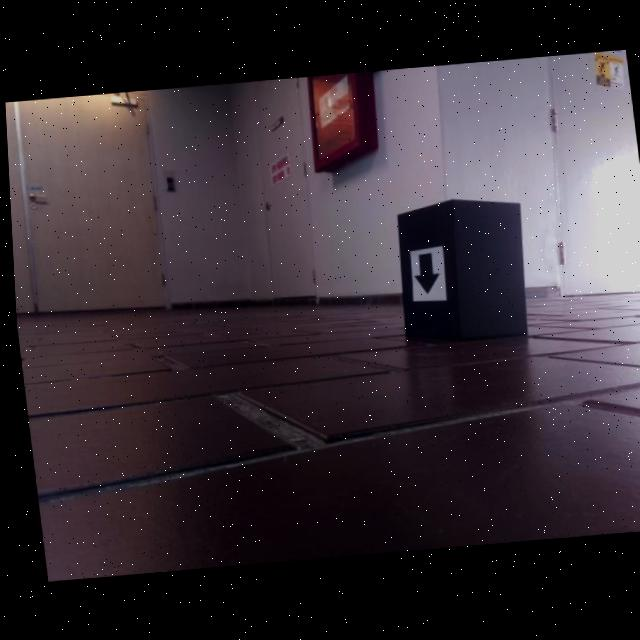DOWN: (410, 254, 437, 296)
